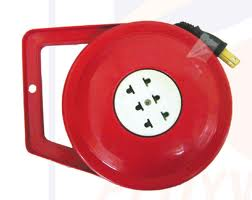Three_eye_plug: (19, 17, 243, 192)
